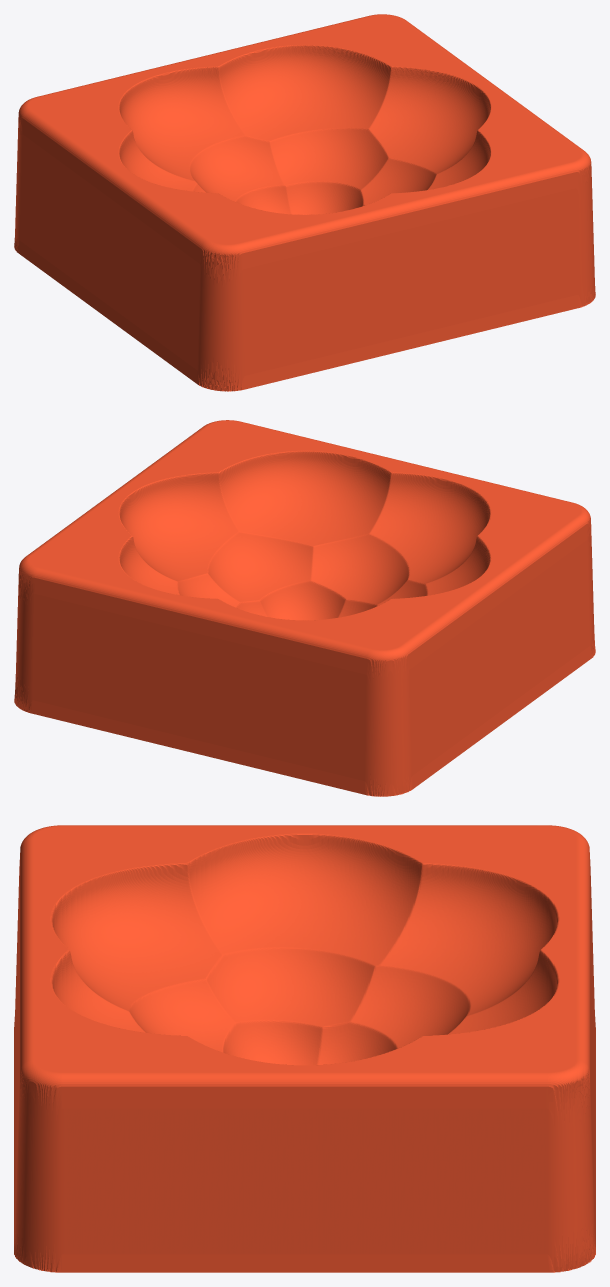
Rendered from mold.glb.
3 renders of one model, top to bottom at view 1: azimuth 30°, elevation 25°; view 2: azimuth 150°, elevation 25°; view 3: azimuth 270°, elevation 25°, orthographic. The views are drawn at different scales.
Parts seen in each view (by area): view 1: geometry_0; view 2: geometry_0; view 3: geometry_0.
Boxes of the visible parts, x1,y1,x2,y2 form: geometry_0: (14,14,595,391); geometry_0: (14,420,595,796); geometry_0: (14,825,595,1272).
Size of the model in its own units: 0.1158 by 0.0395 by 0.1086.
